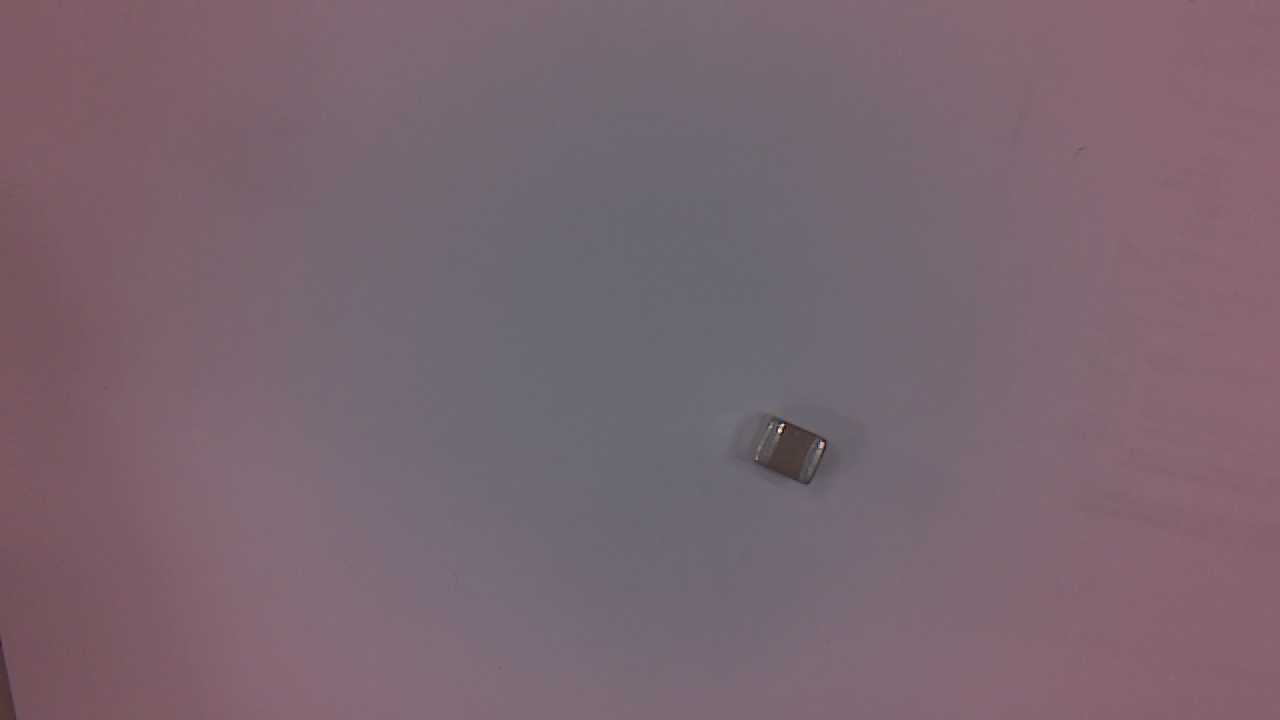Condensator: (757, 417, 833, 495)
